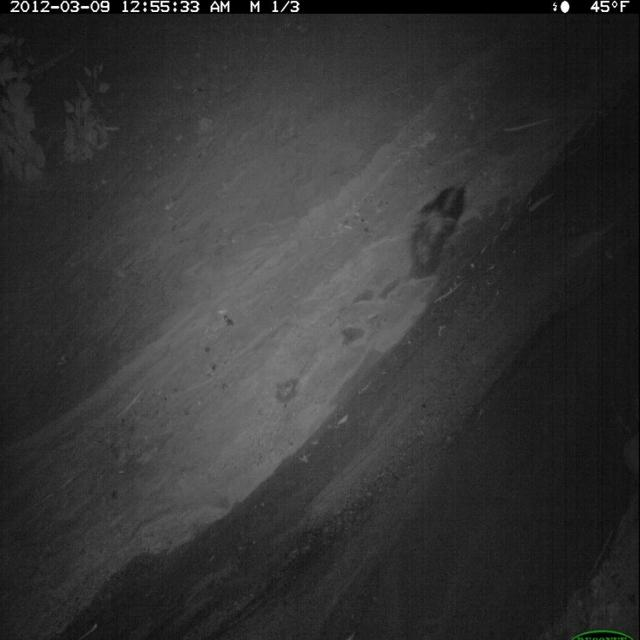skunk: (408, 176, 472, 287)
